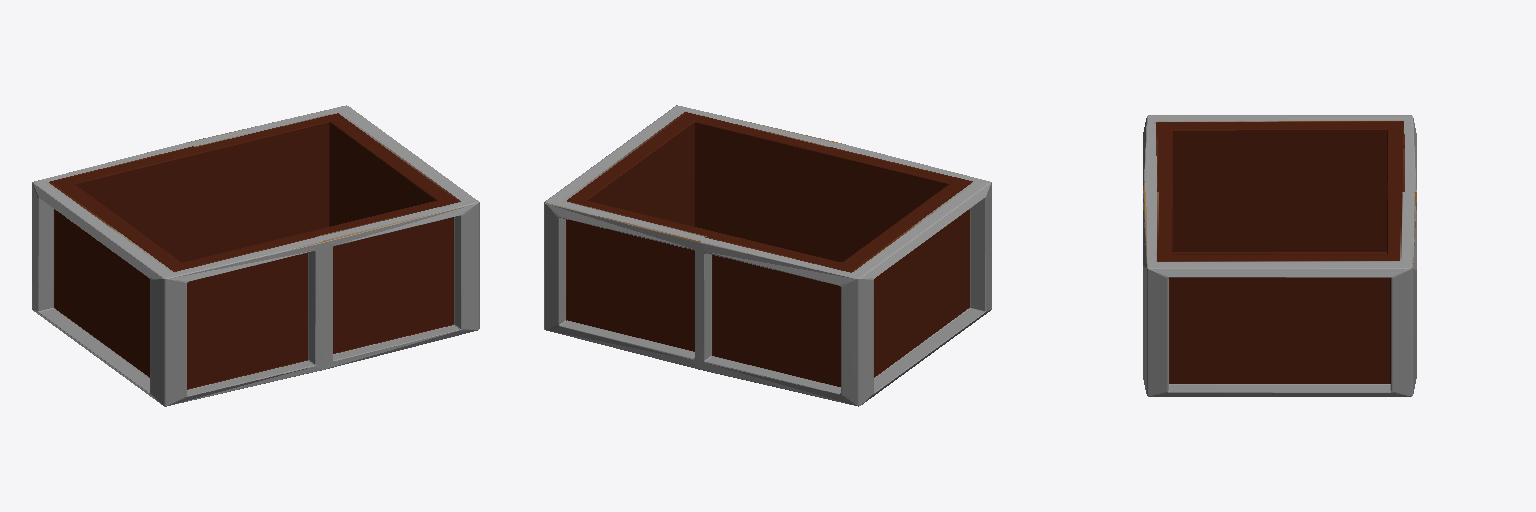
3 renders of one model, left to right at view 1: azimuth 30°, elevation 25°; view 2: azimuth 150°, elevation 25°; view 3: azimuth 270°, elevation 25°, orthographic.
Visible parts, largest first — view 1: 箱; view 2: 箱; view 3: 箱.
Boxes of the visible parts, x1=… form: 箱: x1=32, y1=105, x2=479, y2=406; 箱: x1=544, y1=105, x2=991, y2=406; 箱: x1=1143, y1=115, x2=1416, y2=396.
Bounding box in the file's own units: 3.04 × 1.15 × 2.22.
1 materials, 1 textured.